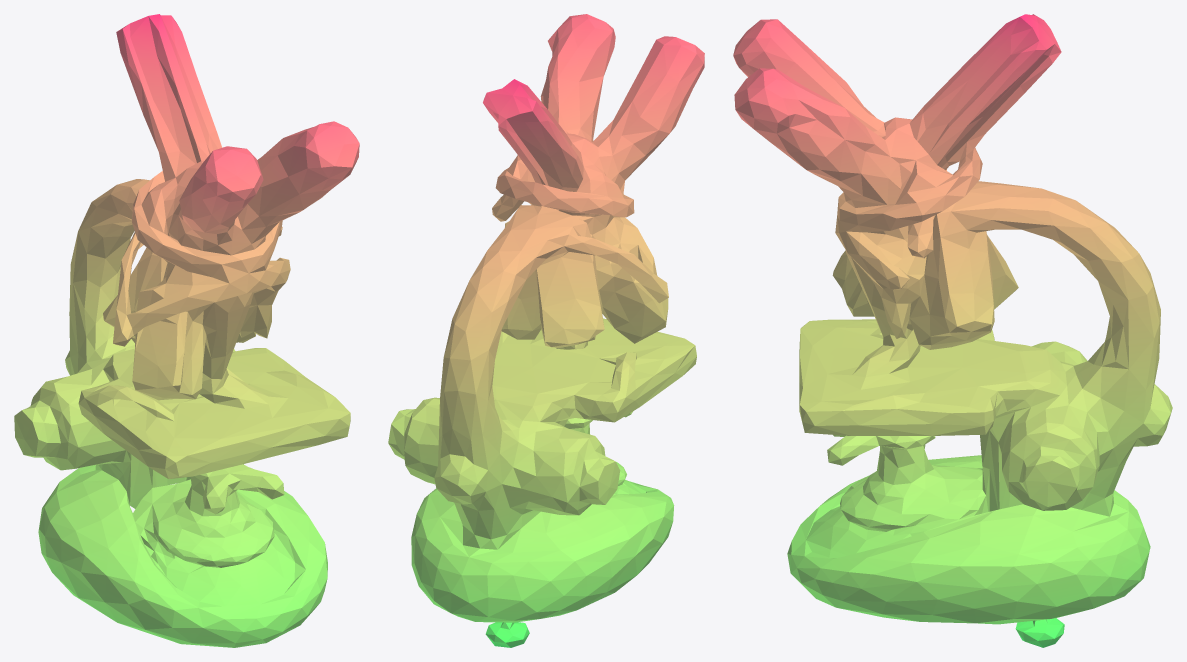
Rendered from 122_cyb_laser_gradient_fish_scales_2999_2026_10_03_868a5b.glb.
3 renders of one model, left to right at view 1: azimuth 30°, elevation 25°; view 2: azimuth 150°, elevation 25°; view 3: azimuth 270°, elevation 25°, orthographic. The views are drawn at different scales.
Parts seen in each view (by area): view 1: geometry_0; view 2: geometry_0; view 3: geometry_0.
Part boxes in pixels (x1,y1,x2,y2): geometry_0: [14, 14, 359, 647]; geometry_0: [388, 14, 704, 647]; geometry_0: [733, 14, 1172, 647].
Bounding box in the file's own units: 0.3969 × 0.9991 × 0.6367.
